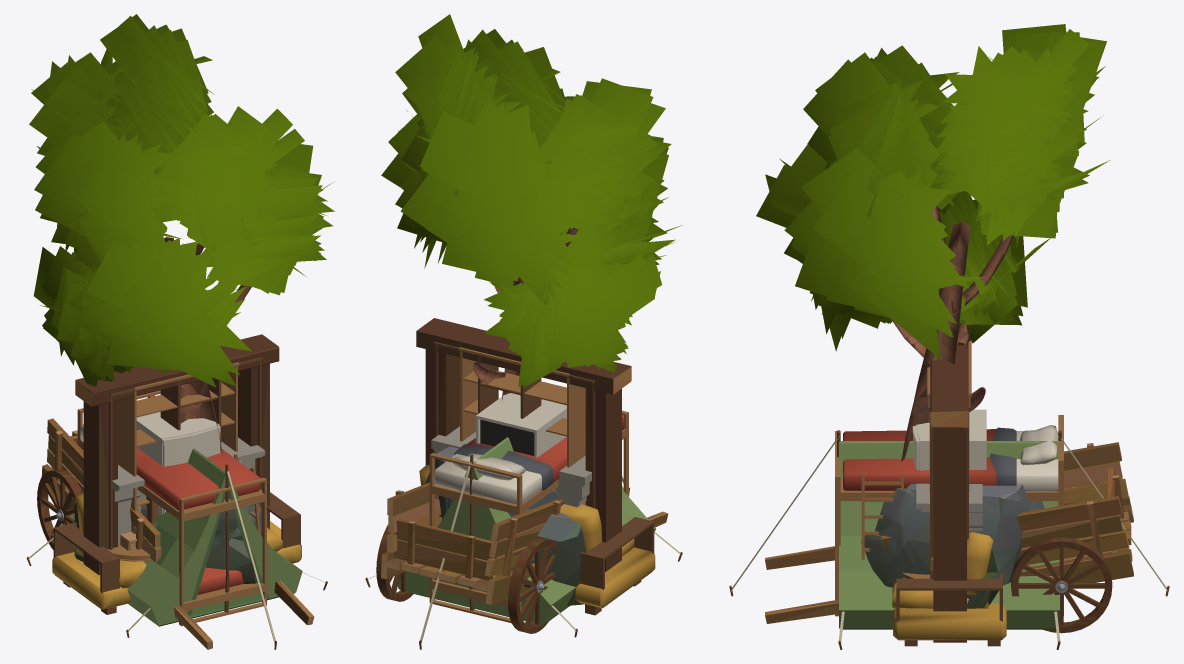
File: prop-hunt-kit.glb
3 views of the same model, side by side, from view 1: azimuth 30°, elevation 25°; view 2: azimuth 150°, elevation 25°; view 3: azimuth 270°, elevation 25° (orthographic). The views are drawn at different scales.
Parts seen in each view (by area): view 1: OakTree, DoorFrame, Tent, BunkBed, Couch, Wagon, Bookshelf, Fridge, ToolShelf, RockLarge, Fireplace, DiningTable; view 2: OakTree, Wagon, DoorFrame, BunkBed, Tent, Couch, Bookshelf, Fridge, RockLarge, ToolShelf, Fireplace; view 3: OakTree, Wagon, Tent, BunkBed, DoorFrame, RockLarge, Couch, Fridge, Fireplace, ToolShelf.
Part boxes in pixels (x1,y1,x2,y2): OakTree: [29, 14, 334, 454]; DoorFrame: [75, 334, 279, 574]; Tent: [26, 448, 327, 649]; BunkBed: [77, 390, 266, 626]; Couch: [52, 492, 301, 614]; Wagon: [37, 395, 314, 649]; Bookshelf: [118, 362, 239, 533]; Fridge: [136, 412, 220, 514]; ToolShelf: [109, 357, 262, 549]; RockLarge: [74, 458, 261, 583]; Fireplace: [112, 437, 265, 545]; DiningTable: [107, 517, 267, 561]; OakTree: [381, 14, 682, 399]; Wagon: [376, 482, 668, 633]; DoorFrame: [416, 318, 631, 571]; BunkBed: [429, 410, 628, 623]; Tent: [365, 405, 682, 649]; Couch: [419, 464, 655, 615]; Bookshelf: [458, 347, 585, 467]; Fridge: [476, 393, 566, 457]; RockLarge: [425, 446, 586, 605]; ToolShelf: [433, 342, 595, 508]; Fireplace: [431, 426, 591, 604]; OakTree: [756, 24, 1110, 461]; Wagon: [765, 442, 1133, 633]; Tent: [729, 430, 1169, 649]; BunkBed: [835, 415, 1063, 616]; DoorFrame: [930, 342, 968, 642]; RockLarge: [861, 484, 1043, 607]; Couch: [892, 532, 1006, 646]; Fridge: [912, 409, 986, 470]; Fireplace: [916, 483, 982, 531]; ToolShelf: [928, 395, 970, 578].
Bounding box in the file's own units: 3.67 × 7.01 × 4.8.
